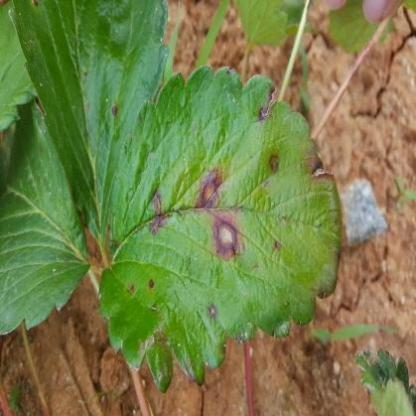Strawberry_Leaf_Spot: (97, 65, 342, 394), (7, 0, 170, 252)
